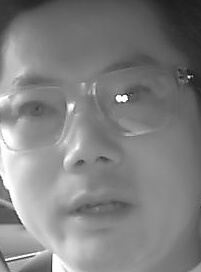eye: (17, 98, 55, 122)
glass: (94, 64, 178, 134), (1, 85, 69, 152)
mouth: (64, 184, 141, 230)
